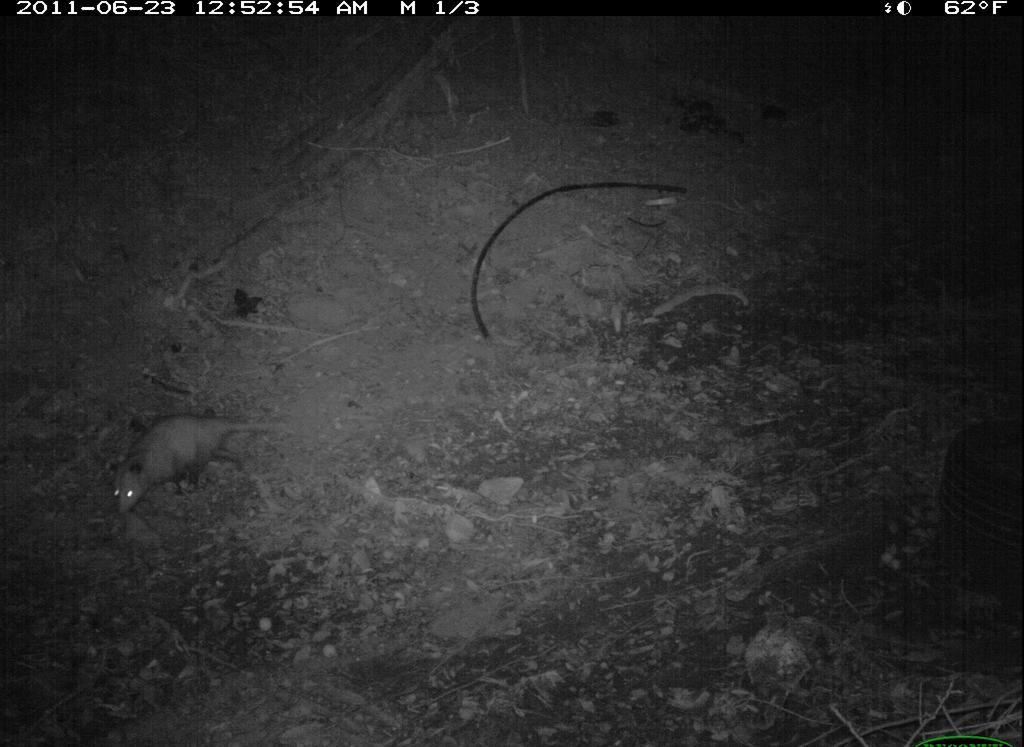opossum: (103, 405, 304, 520)
